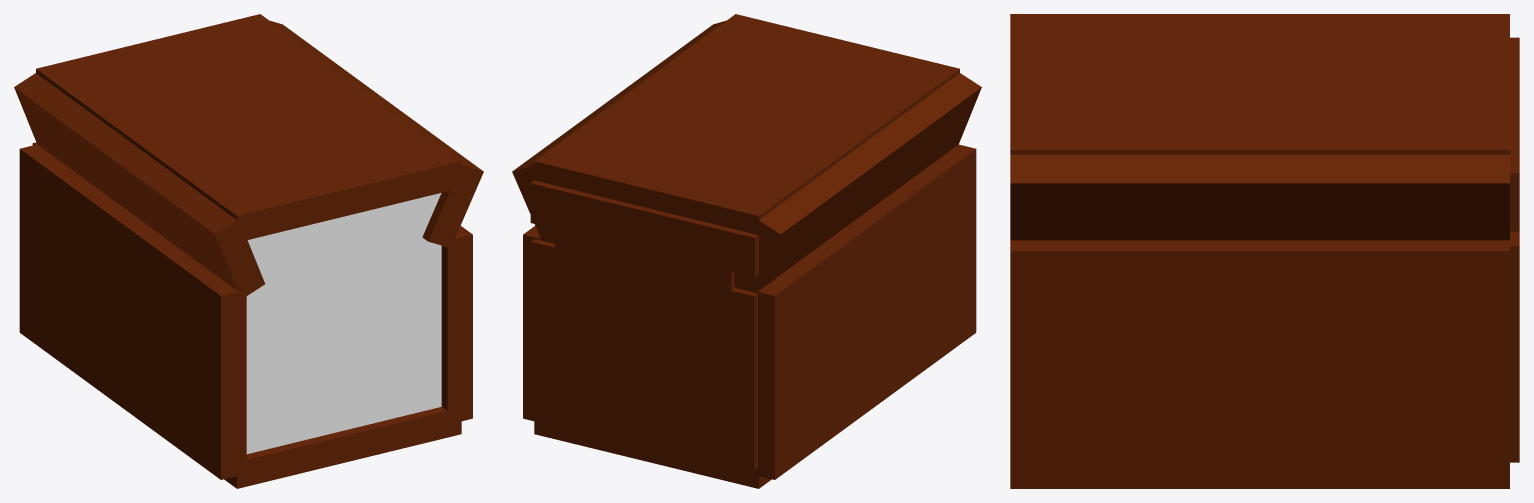
File: bread.fbx
3 views of the same model, side by side, from view 1: azimuth 30°, elevation 25°; view 2: azimuth 150°, elevation 25°; view 3: azimuth 270°, elevation 25° (orthographic). The views are drawn at different scales.
Parts seen in each view (by area): view 1: Cube, Cube.006, Cube.003, Cube.007, Cube.002, Cube.004, Cube.005, Cube.001, Cube.008; view 2: Cube, Cube.006, Cube.014, Cube.013, Cube.007, Cube.012, Cube.004, Cube.008, Cube.005; view 3: Cube.005, Cube, Cube.008, Cube.004, Cube.014, Cube.012.
Part boxes in pixels (left/top/right/bottom): Cube: left=36, top=14, right=461, bottom=242; Cube.006: left=19, top=144, right=246, bottom=479; Cube.003: left=246, top=243, right=441, bottom=454; Cube.007: left=14, top=73, right=264, bottom=298; Cube.002: left=255, top=214, right=431, bottom=347; Cube.004: left=224, top=407, right=461, bottom=488; Cube.005: left=441, top=226, right=472, bottom=424; Cube.001: left=247, top=193, right=441, bottom=263; Cube.008: left=270, top=21, right=483, bottom=247; Cube: left=534, top=14, right=959, bottom=234; Cube.006: left=749, top=144, right=976, bottom=479; Cube.014: left=531, top=239, right=757, bottom=470; Cube.013: left=554, top=221, right=734, bottom=354; Cube.007: left=734, top=73, right=981, bottom=291; Cube.012: left=530, top=180, right=758, bottom=277; Cube.004: left=534, top=417, right=771, bottom=488; Cube.008: left=512, top=21, right=725, bottom=243; Cube.005: left=523, top=226, right=548, bottom=421; Cube.005: left=1010, top=240, right=1509, bottom=479; Cube: left=1010, top=14, right=1509, bottom=154; Cube.008: left=1010, top=155, right=1509, bottom=240; Cube.004: left=1010, top=480, right=1509, bottom=488; Cube.014: left=1510, top=231, right=1519, bottom=462; Cube.012: left=1510, top=37, right=1519, bottom=222.
Bounding box in the file's own units: 94.1 × 91.32 × 124.
